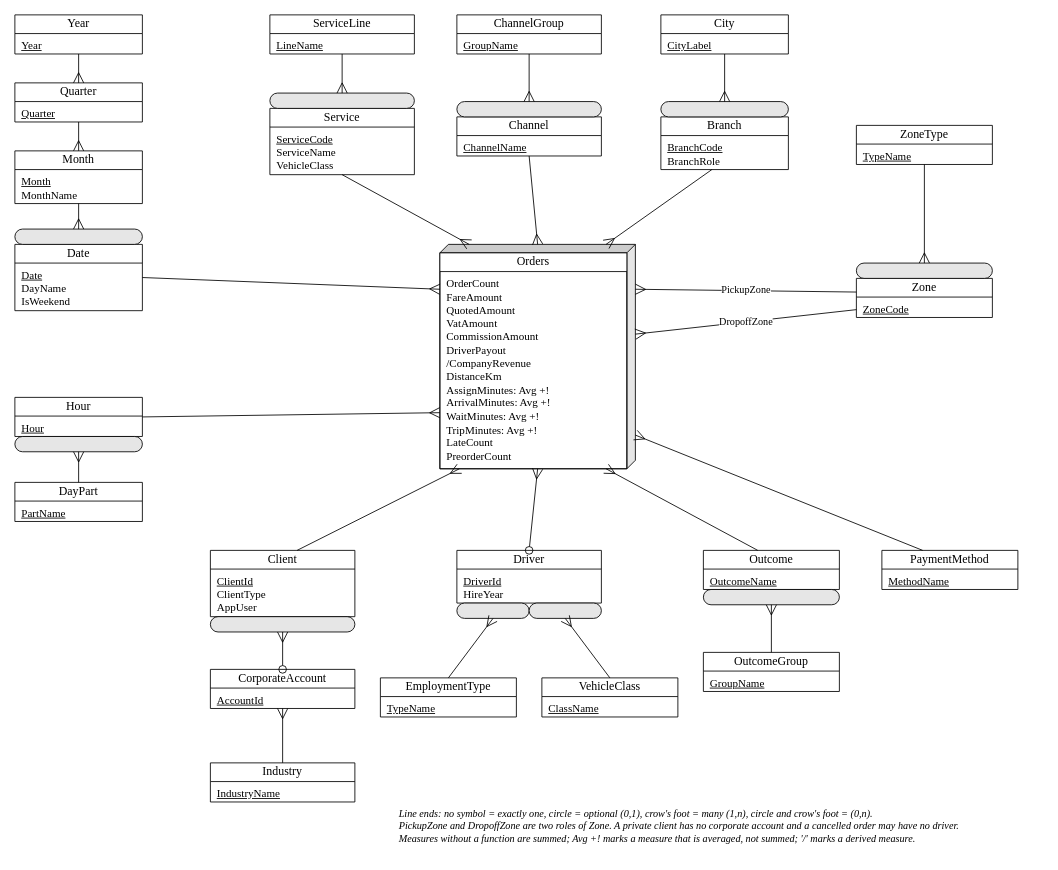
This 1058x870 diagram has some shape labels left out. Each missing label, with the centre of its shape:
"Accounts" belongs at (282,624).
"Calendar" belongs at (78,236).
"Channels" belongs at (528,109).
"DayParts" belongs at (78,444).
"Employment" belongs at (492,610).
"Geography" belongs at (724,109).
"Outcomes" belongs at (771,597).
"Services" belongs at (341,100).
"Vehicles" belongs at (564,610).
"ZoneTypes" belongs at (924,270).
